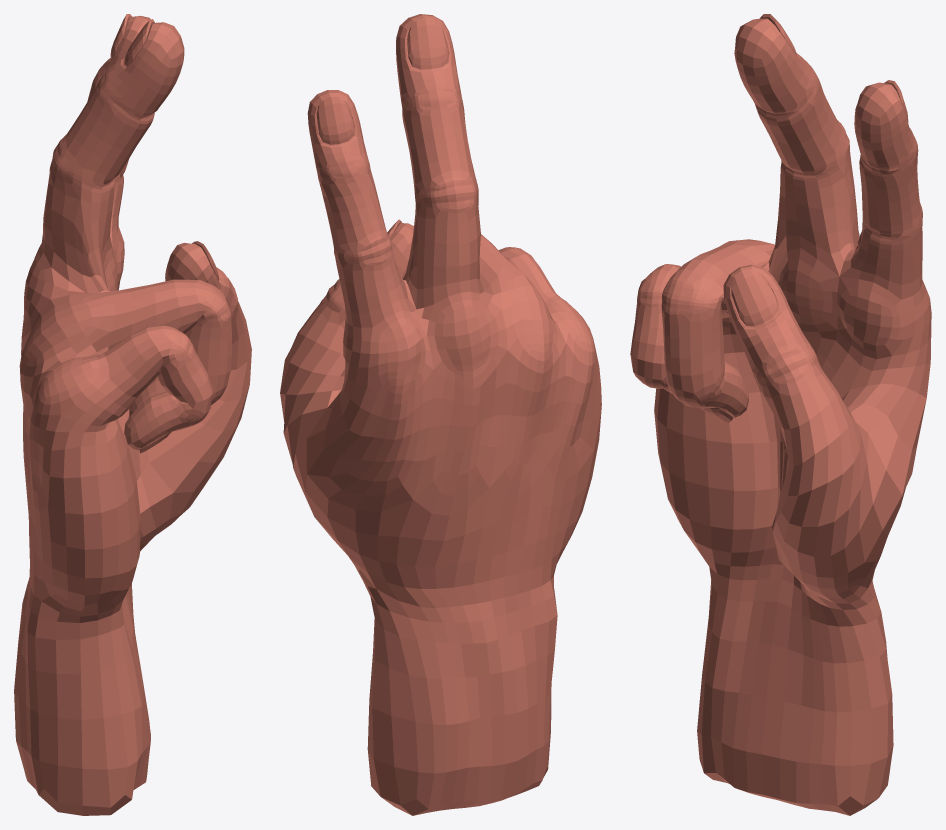
3 views of the same model, side by side, from view 1: azimuth 30°, elevation 25°; view 2: azimuth 150°, elevation 25°; view 3: azimuth 270°, elevation 25° (orthographic). The views are drawn at different scales.
Visible parts, largest first — view 1: ZBrushPolyMesh3D; view 2: ZBrushPolyMesh3D; view 3: ZBrushPolyMesh3D.
Part boxes in pixels (x1,y1,x2,y2): ZBrushPolyMesh3D: (14,14,251,815); ZBrushPolyMesh3D: (280,14,601,815); ZBrushPolyMesh3D: (630,14,931,815).
Size of the model in its own units: 1.92 by 5.37 by 1.82.
